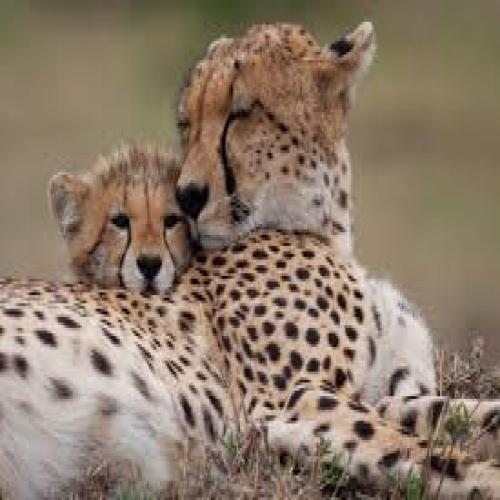cheetah-endangered: (7, 14, 494, 484), (46, 139, 203, 300)
